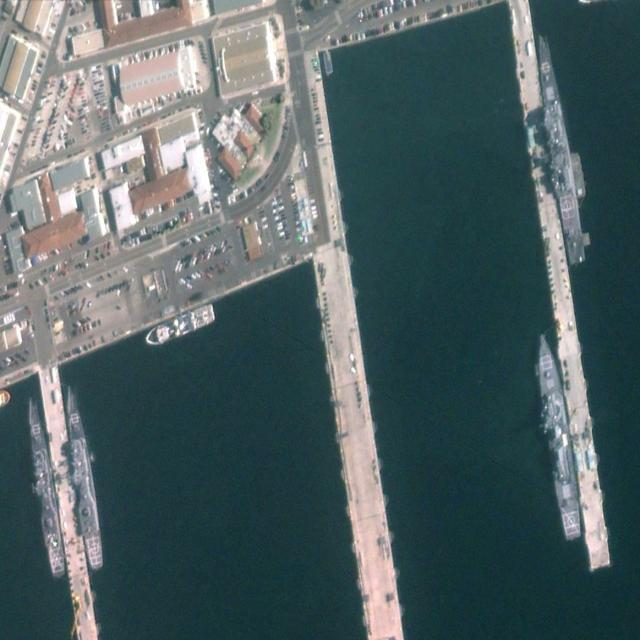Cruiser: (530, 31, 586, 267)
Destroyer: (532, 328, 584, 543)
Frigate: (57, 381, 107, 574), (21, 393, 68, 582)
Other Ship: (142, 303, 217, 349)
